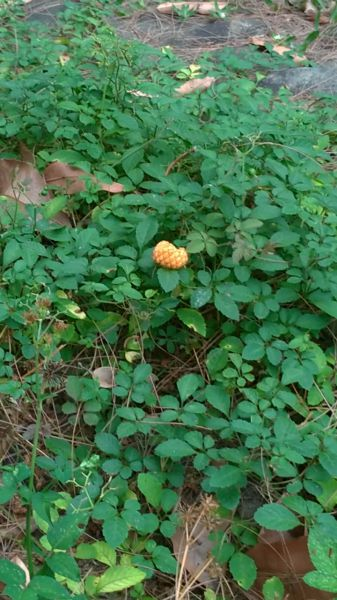eggs: (150, 239, 193, 271)
